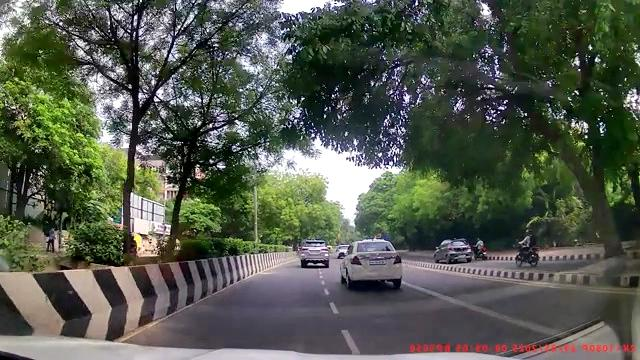motorcycle_with_helmet: (515, 233, 540, 268)
